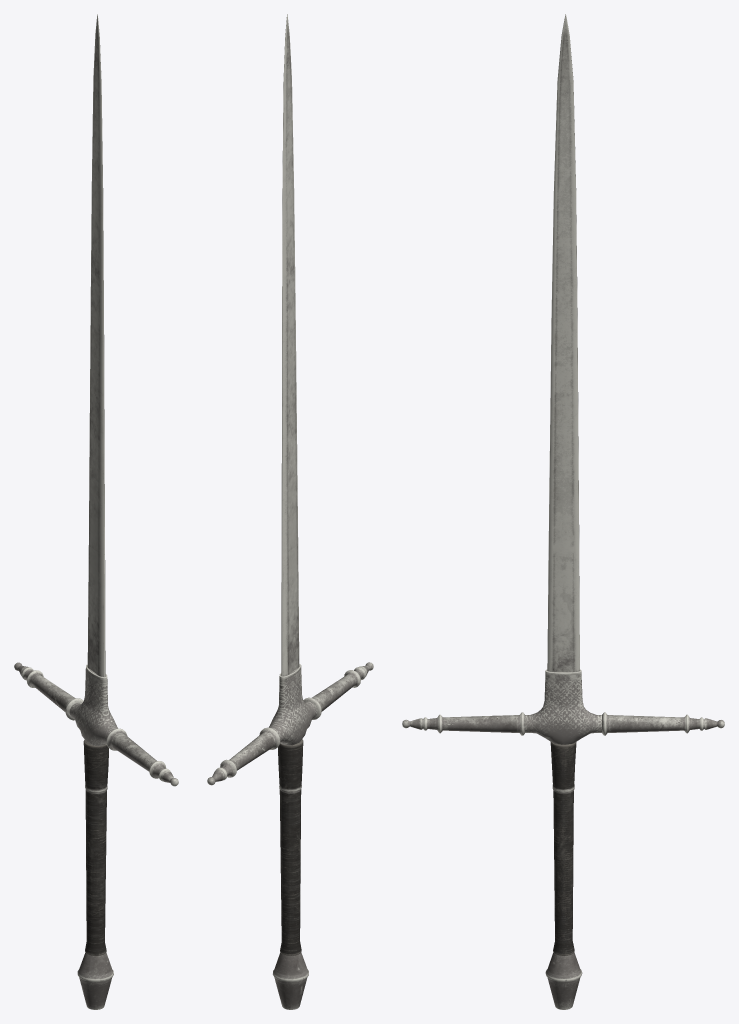
The model's file is Sword with Text.fbx.
3 renders of one model, left to right at view 1: azimuth 30°, elevation 25°; view 2: azimuth 150°, elevation 25°; view 3: azimuth 270°, elevation 25°, orthographic.
Parts seen in each view (by area): view 1: Merged_Sword_Sides_low1:Group62261, Merged_Sword_Sides_low1:Group62470, Merged_Sword_Sides_low1:Group28594, Merged_Sword_Sides_low1:Group43544, Merged_Sword_Sides_low1:Group26170; view 2: Merged_Sword_Sides_low1:Group62261, Merged_Sword_Sides_low1:Group62470, Merged_Sword_Sides_low1:Group28594, Merged_Sword_Sides_low1:Group43544, Merged_Sword_Sides_low1:Group26170; view 3: Merged_Sword_Sides_low1:Group62261, Merged_Sword_Sides_low1:Group62470, Merged_Sword_Sides_low1:Group28594, Merged_Sword_Sides_low1:Group43544, Merged_Sword_Sides_low1:Group26170.
Boxes of the visible parts, x1,y1,x2,y2 form: Merged_Sword_Sides_low1:Group62261: (87, 14, 105, 676); Merged_Sword_Sides_low1:Group62470: (83, 740, 108, 955); Merged_Sword_Sides_low1:Group28594: (14, 662, 178, 786); Merged_Sword_Sides_low1:Group43544: (69, 664, 117, 746); Merged_Sword_Sides_low1:Group26170: (77, 952, 113, 1009); Merged_Sword_Sides_low1:Group62261: (281, 14, 299, 676); Merged_Sword_Sides_low1:Group62470: (278, 739, 303, 955); Merged_Sword_Sides_low1:Group28594: (207, 662, 373, 785); Merged_Sword_Sides_low1:Group43544: (269, 664, 317, 745); Merged_Sword_Sides_low1:Group26170: (272, 952, 308, 1009); Merged_Sword_Sides_low1:Group62261: (547, 14, 579, 671); Merged_Sword_Sides_low1:Group62470: (550, 742, 576, 955); Merged_Sword_Sides_low1:Group28594: (402, 712, 724, 735); Merged_Sword_Sides_low1:Group43544: (525, 669, 601, 744); Merged_Sword_Sides_low1:Group26170: (545, 952, 582, 1009).
Bounding box in the file's own units: 5.65 × 169 × 49.86.
